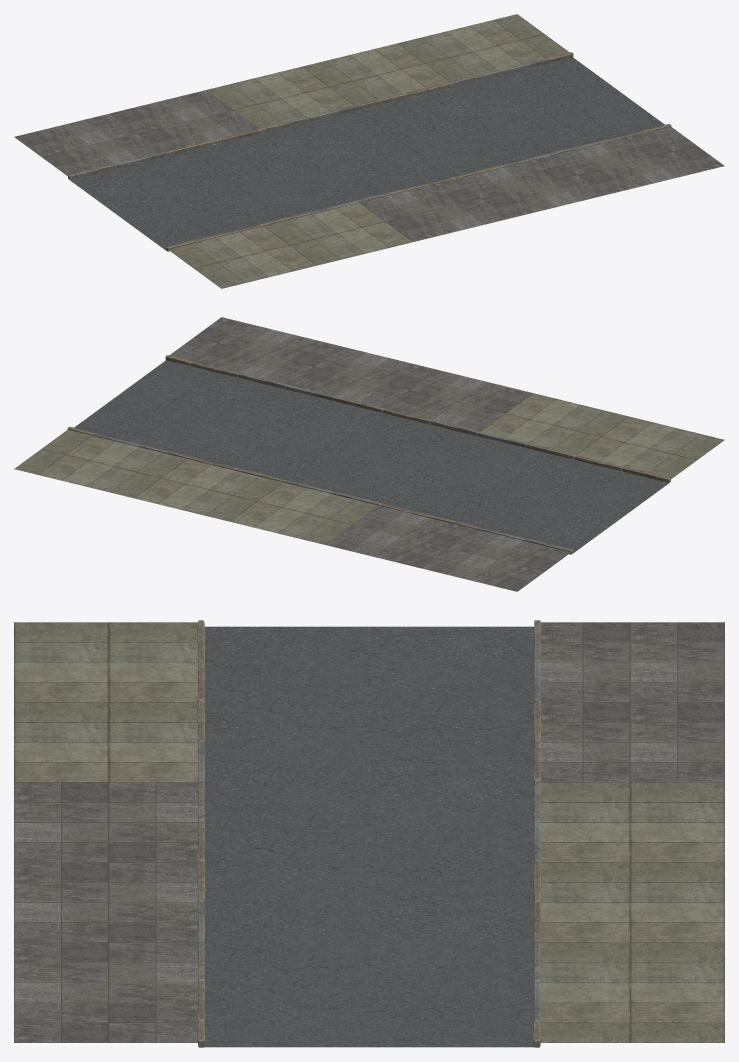
3 renders of one model, top to bottom at view 1: azimuth 30°, elevation 25°; view 2: azimuth 150°, elevation 25°; view 3: azimuth 270°, elevation 25°, orthographic. The views are drawn at different scales.
Visible parts, largest first — view 1: Optimized_Scene_06_LOD0; view 2: Optimized_Scene_06_LOD0; view 3: Optimized_Scene_06_LOD0.
Boxes of the visible parts, bbox=[...] form: Optimized_Scene_06_LOD0: bbox=[14, 14, 724, 288]; Optimized_Scene_06_LOD0: bbox=[14, 317, 724, 591]; Optimized_Scene_06_LOD0: bbox=[14, 620, 724, 1047].
Size of what is drawn, in the model's own units: 2102 by 19.08 by 1500.
